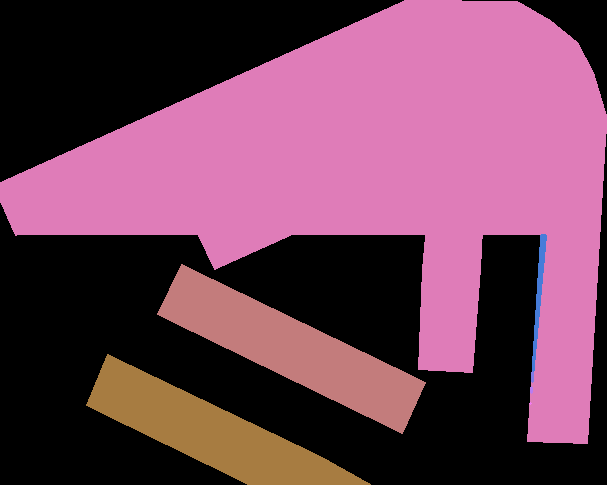parkingspot: (0, 0, 607, 443), (157, 264, 425, 433), (86, 354, 371, 485), (190, 126, 419, 269), (418, 169, 485, 372)
